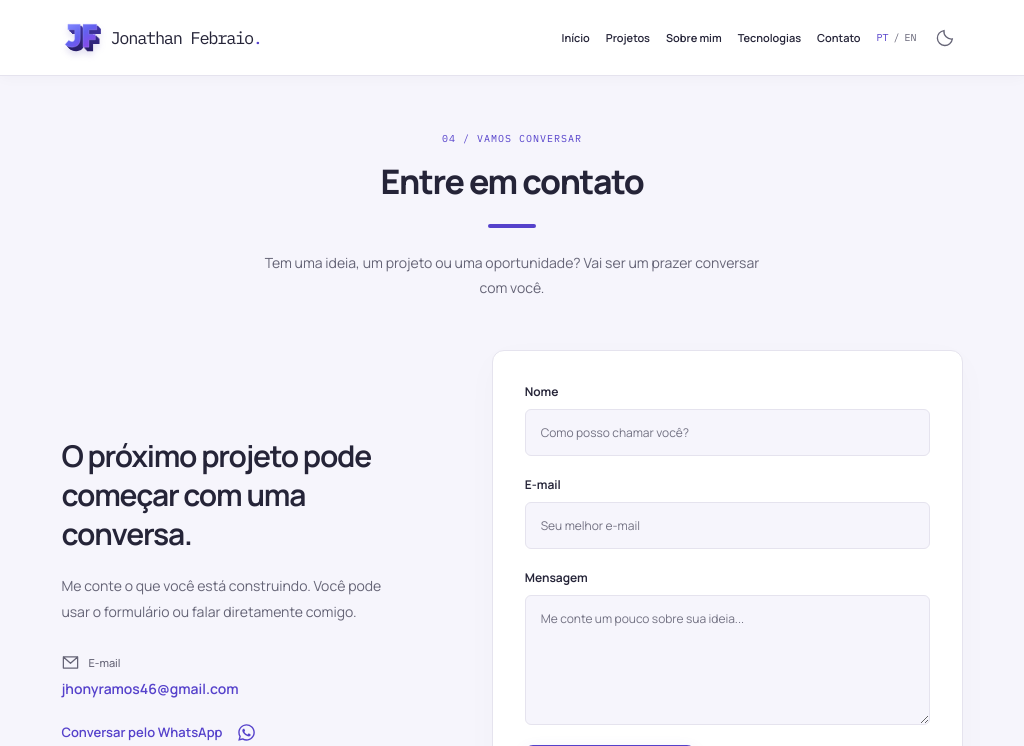
Portfolio visitor journeys › only shows contact success after the service accepts the request
This screenshot has width=1024, height=746.
(page scrolled)
Type "Teste local" into the field labelled "Nome". click: point(727, 432)
box: [525,409,930,456]
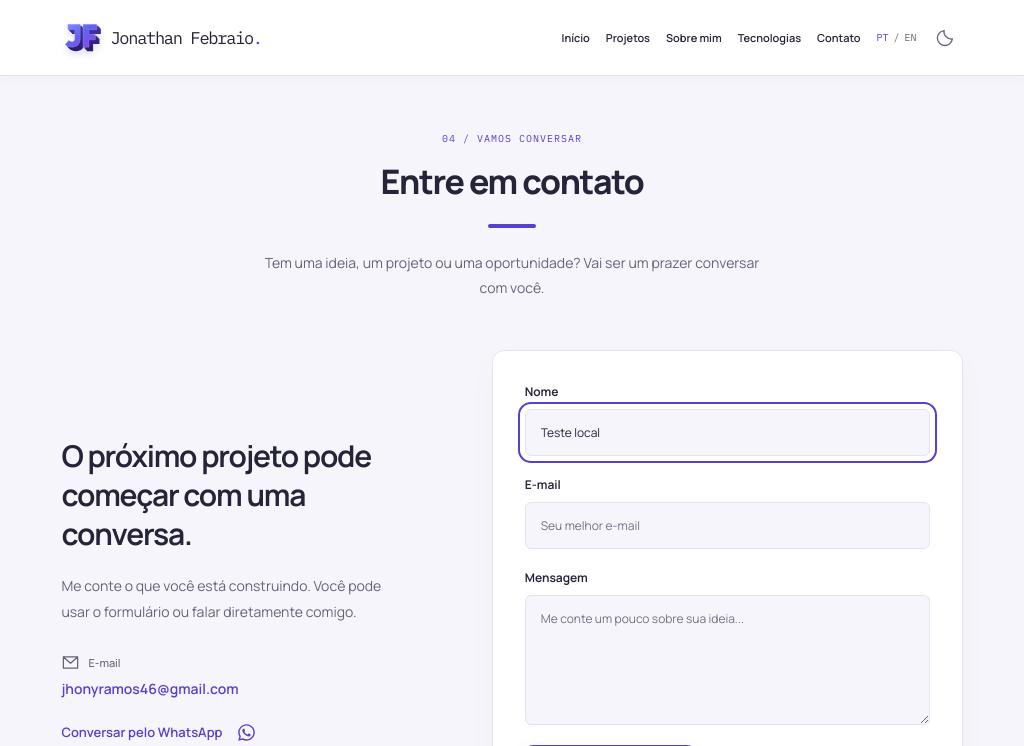
Type "test@example.com" into the field labelled "E-mail". click: point(727, 526)
box: [525,502,930,549]
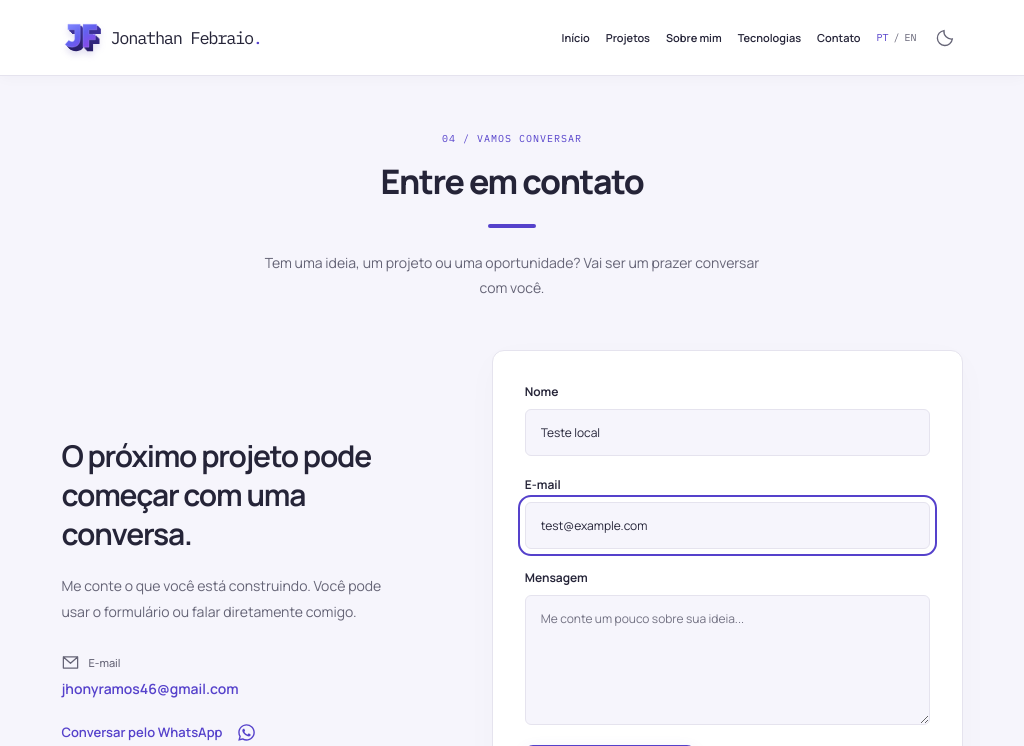
Type "Mensagem de teste local." into the text box labelled "Mensagem". click: point(727, 660)
box: [525,595,930,725]
(page scrolled)
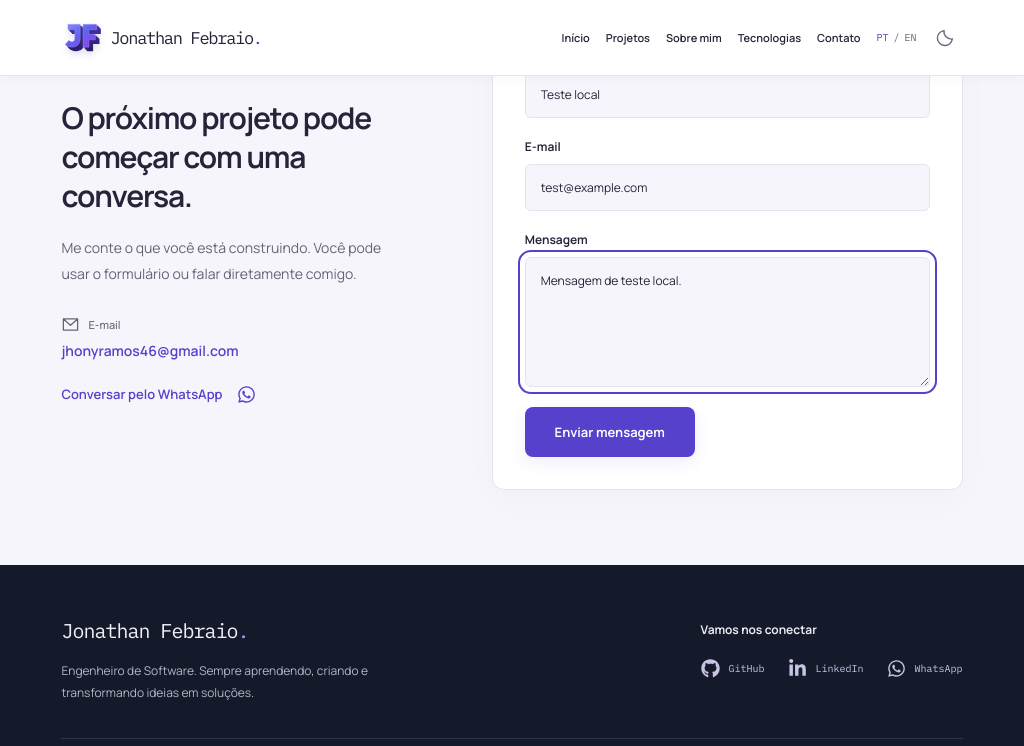
Click the button "Enviar mensagem". click: point(610, 432)
box: [525,407,695,457]
(page scrolled)
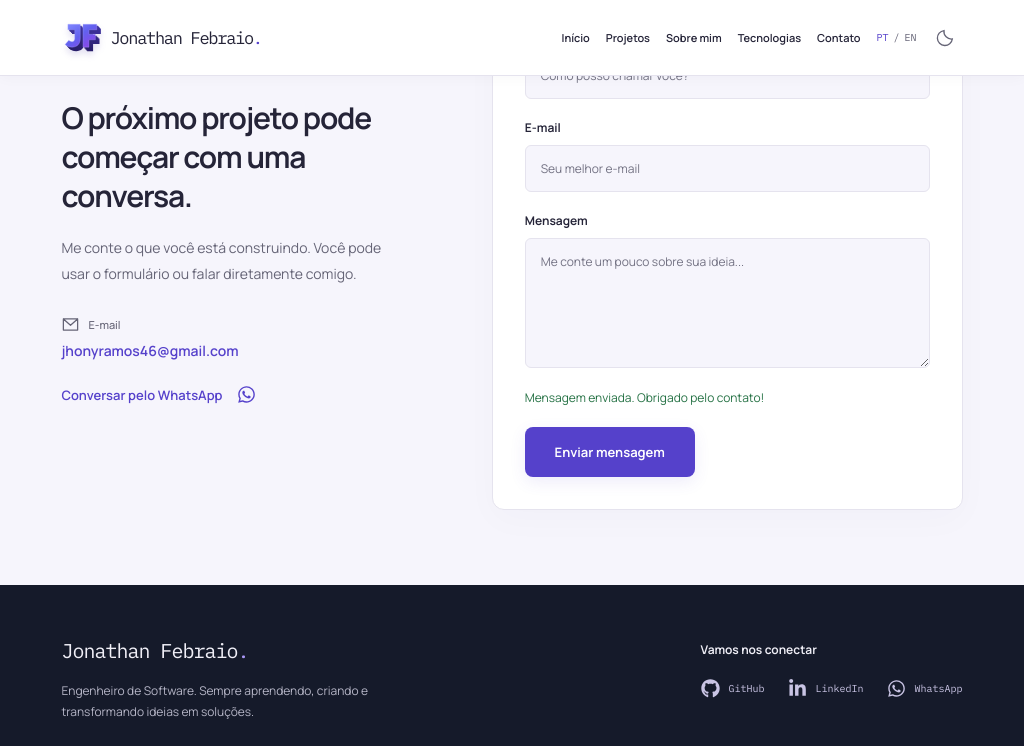
expect the message shows "Mensagem enviada": met, box [525,389,764,406]
expect the text box labelled "Mensagem" is empty: met, box [525,238,930,368]
